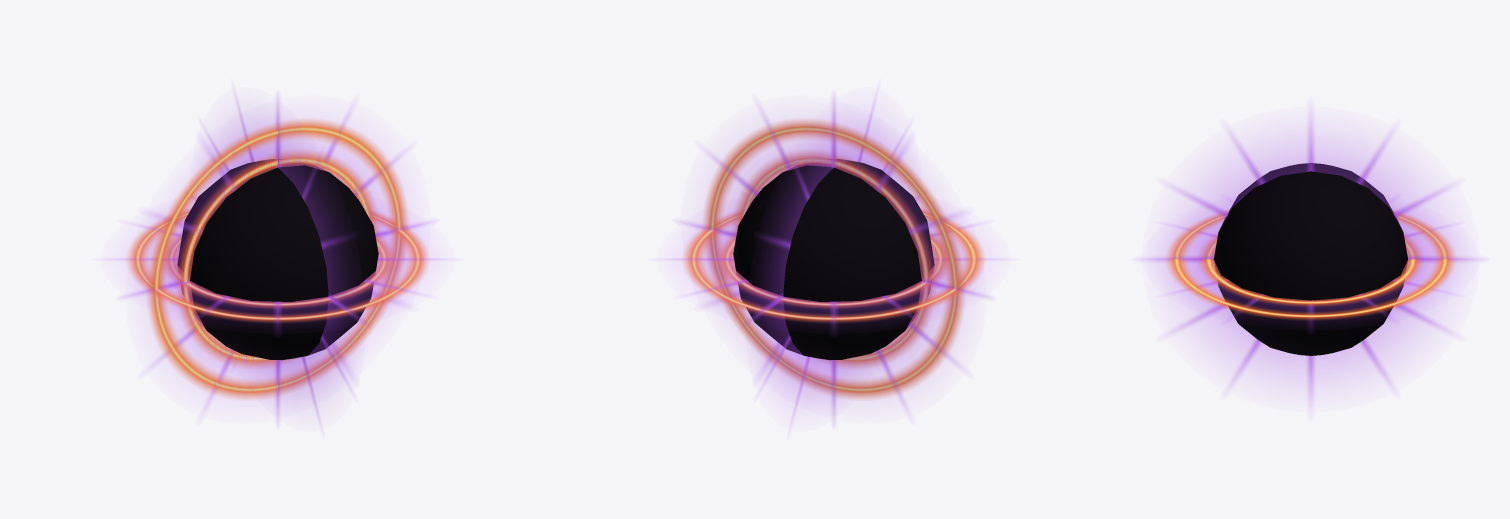
File: fx_msun.glb
3 renders of one model, left to right at view 1: azimuth 30°, elevation 25°; view 2: azimuth 150°, elevation 25°; view 3: azimuth 270°, elevation 25°, orthographic. The views are drawn at different scales.
Parts seen in each view (by area): view 1: fx_corona, fx_void, fx_rim; view 2: fx_corona, fx_void, fx_rim; view 3: fx_corona, fx_void, fx_rim.
Part boxes in pixels (x1,y1,x2,y2): fx_corona: [108, 95, 447, 423]; fx_void: [177, 159, 378, 360]; fx_rim: [128, 120, 426, 398]; fx_corona: [664, 95, 1003, 423]; fx_void: [733, 159, 934, 360]; fx_rim: [685, 120, 983, 398]; fx_corona: [1139, 112, 1482, 406]; fx_void: [1213, 163, 1408, 355]; fx_rim: [1167, 210, 1454, 319].
Size of the model in its own units: 1.9 by 1.9 by 1.9.
Materials: 3 (2 with a texture image).
